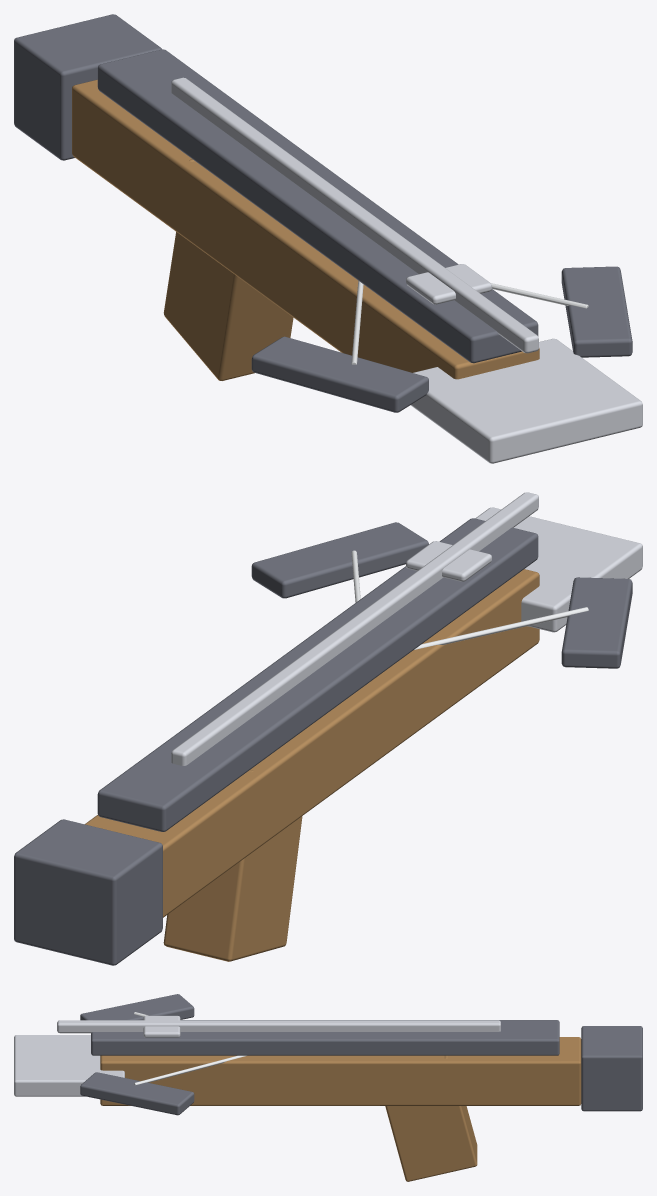
Rendered from weapon_crossbow.glb.
The picture shows the model from 3 angles, top to bottom: view 1: azimuth 30°, elevation 25°; view 2: azimuth 150°, elevation 25°; view 3: azimuth 270°, elevation 25°; orthographic projection. The views are drawn at different scales.
Visible parts, largest first — view 1: Stock.002, Rail, FrontStirrup, Grip.002, ShoulderPad.001, Bolt, LimbLeft, LimbRight, BoltHead; view 2: Stock.002, Rail, ShoulderPad.001, Grip.002, Bolt, FrontStirrup, LimbRight, LimbLeft, BoltHead, StringLeft; view 3: Stock.002, Rail, Grip.002, ShoulderPad.001, Bolt, FrontStirrup, LimbRight, LimbLeft, BoltHead, StringRight.
Boxes of the visible parts, x1,y1,x2,y2 form: Stock.002: (72,79,539,379); Rail: (97,49,538,363); FrontStirrup: (410,338,642,463); Grip.002: (163,159,293,380); ShoulderPad.001: (14,14,161,160); Bolt: (171,77,538,353); LimbLeft: (251,336,428,412); LimbRight: (561,266,632,357); BoltHead: (406,264,492,304); Stock.002: (85,569,539,917); Rail: (97,518,538,831); ShoulderPad.001: (14,819,162,965); Grip.002: (163,769,302,961); Bolt: (171,492,538,765); FrontStirrup: (475,507,642,632); LimbRight: (251,522,428,598); LimbLeft: (561,577,632,668); BoltHead: (406,541,492,581); StringLeft: (414,607,588,649); Stock.002: (100,1037,581,1105); Rail: (91,1020,559,1055); Grip.002: (385,1055,477,1181); ShoulderPad.001: (581,1026,642,1111); Bolt: (57,1020,500,1033); FrontStirrup: (14,1035,124,1096); LimbRight: (80,1072,194,1115); LimbLeft: (80,994,194,1020); BoltHead: (143,1015,180,1037); StringRight: (134,1055,246,1085).
Size of the model in its own units: 0.8594 by 0.5392 by 2.04.
